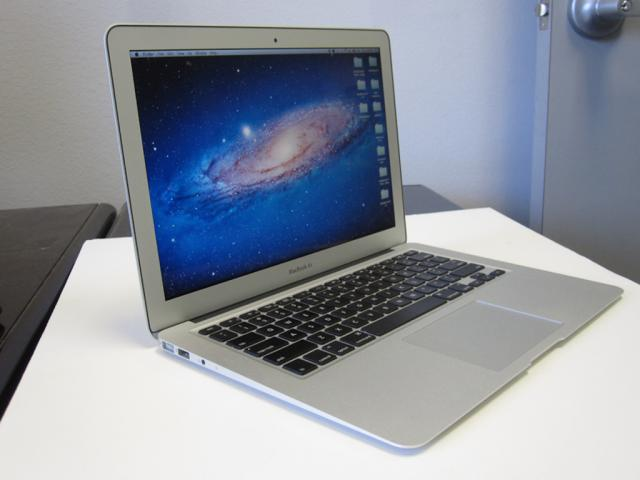Door-handle: (568, 0, 639, 40)
